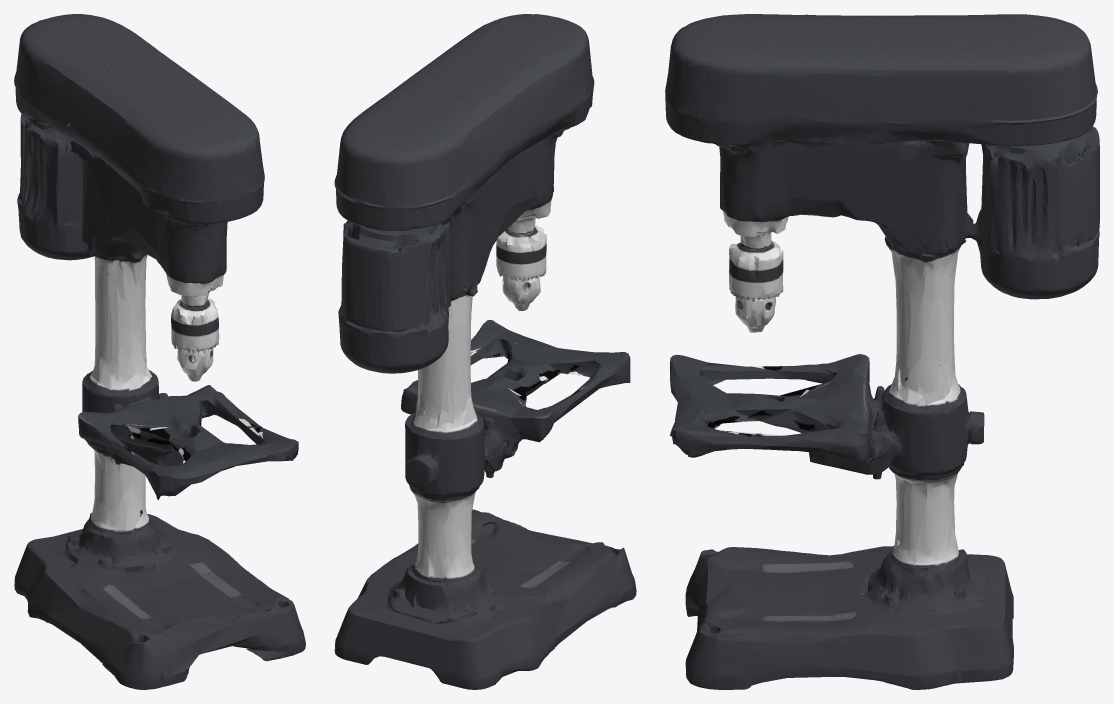
The model's file is benchtop_drill_press_.glb.
3 renders of one model, left to right at view 1: azimuth 30°, elevation 25°; view 2: azimuth 150°, elevation 25°; view 3: azimuth 270°, elevation 25°, orthographic. The views are drawn at different scales.
Parts seen in each view (by area): view 1: output_unwrapped; view 2: output_unwrapped; view 3: output_unwrapped.
Boxes of the visible parts, x1,y1,x2,y2 form: output_unwrapped: (14,14,305,689); output_unwrapped: (334,14,636,689); output_unwrapped: (665,14,1099,689).
Size of the model in its own units: 0.2343 by 0.65 by 0.4229.
Materials: 1 (1 with a texture image).
